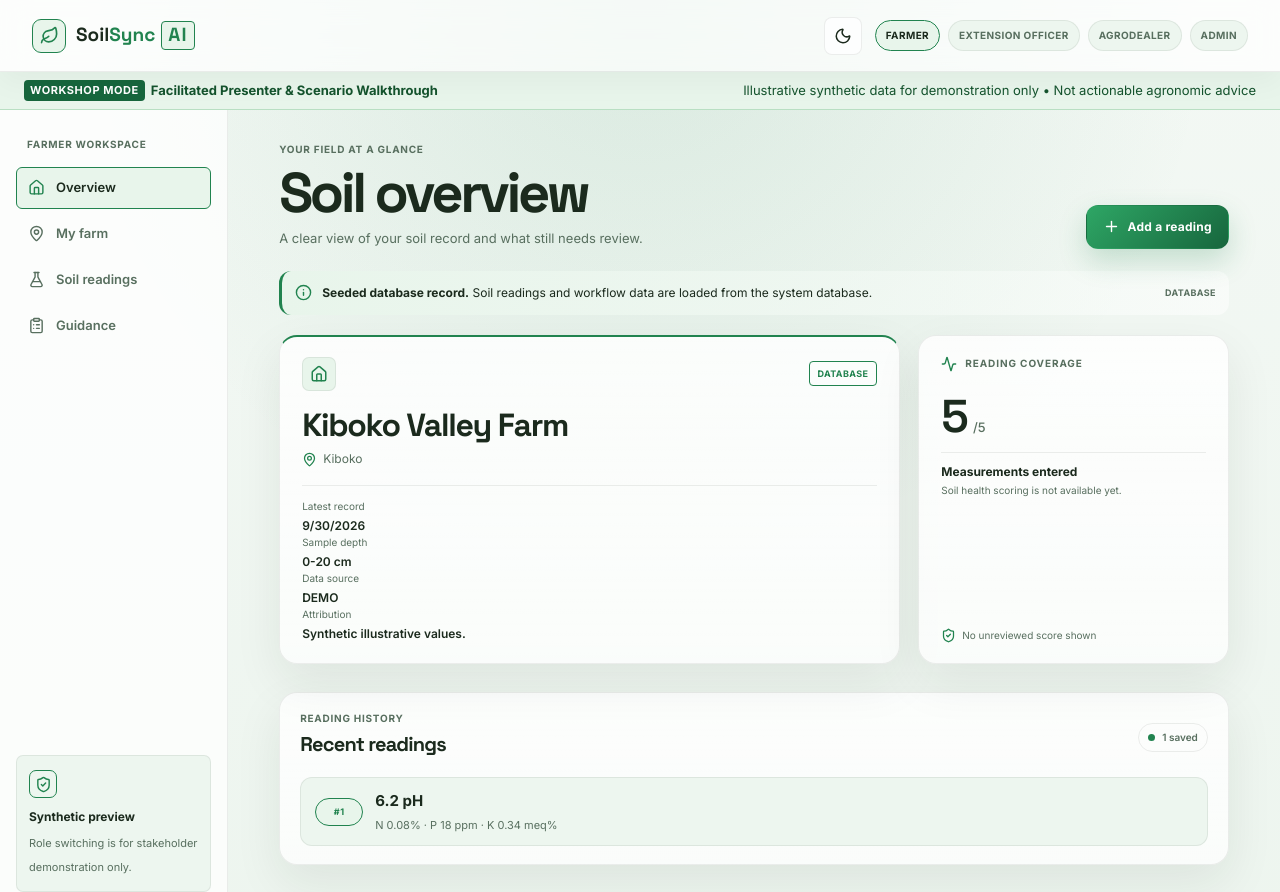
farmer overview prototype › allows an incomplete local reading preview without saving it
Click the button "Add a reading" at (1157, 227), box [1086,205,1229,249]
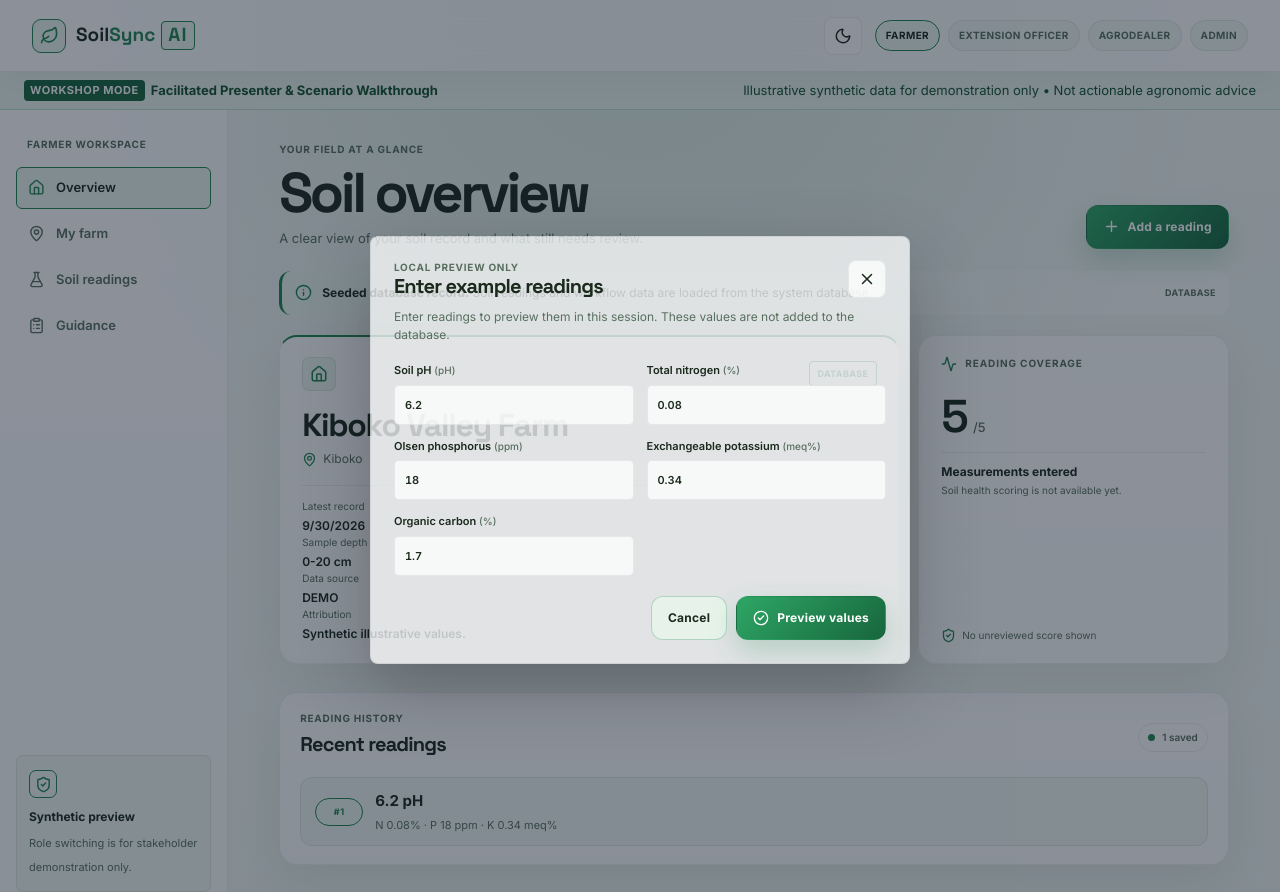
Clear the number field labelled "Soil pH (pH)" at (514, 405), box [394,385,634,425]
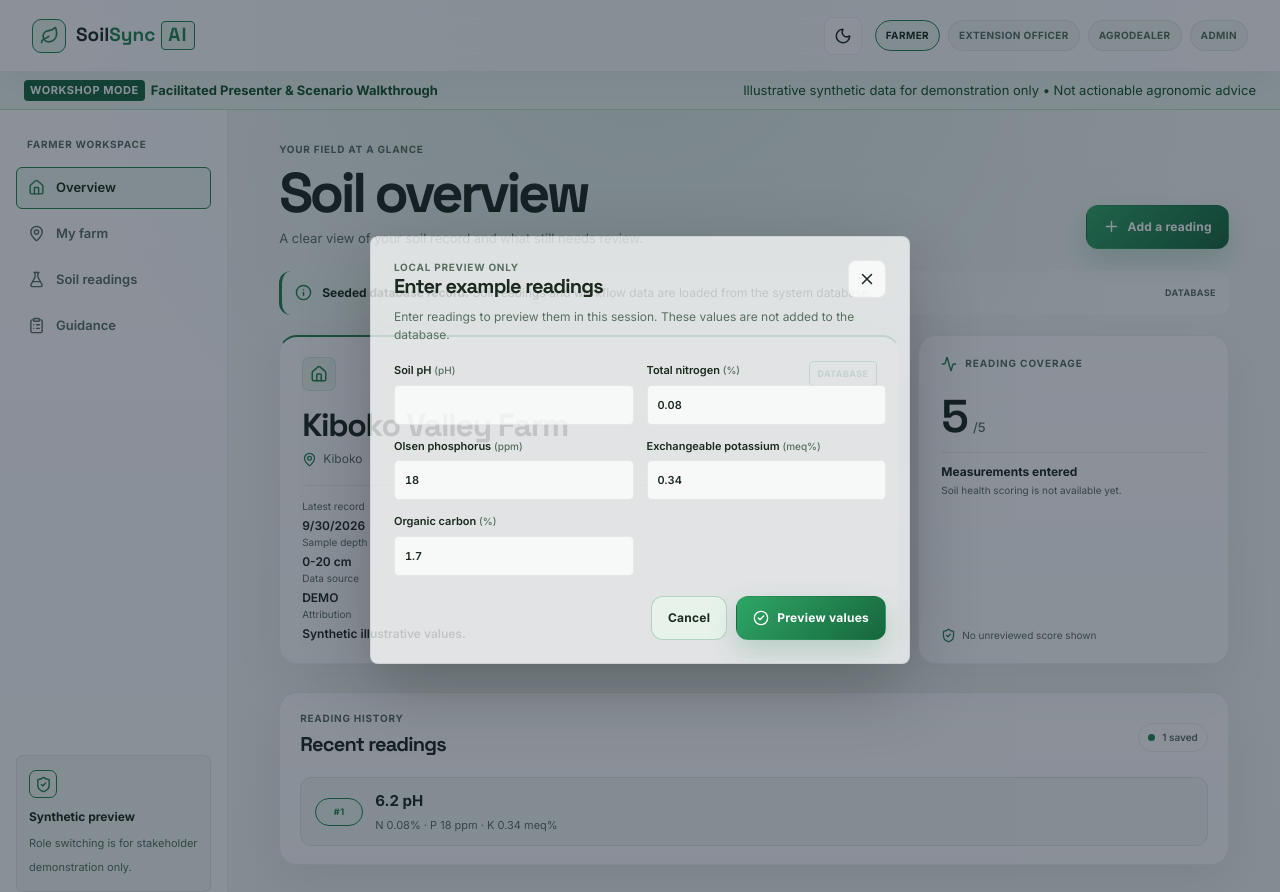
Click the button "Preview values" at (811, 618), box [736,596,886,640]
(page scrolled)
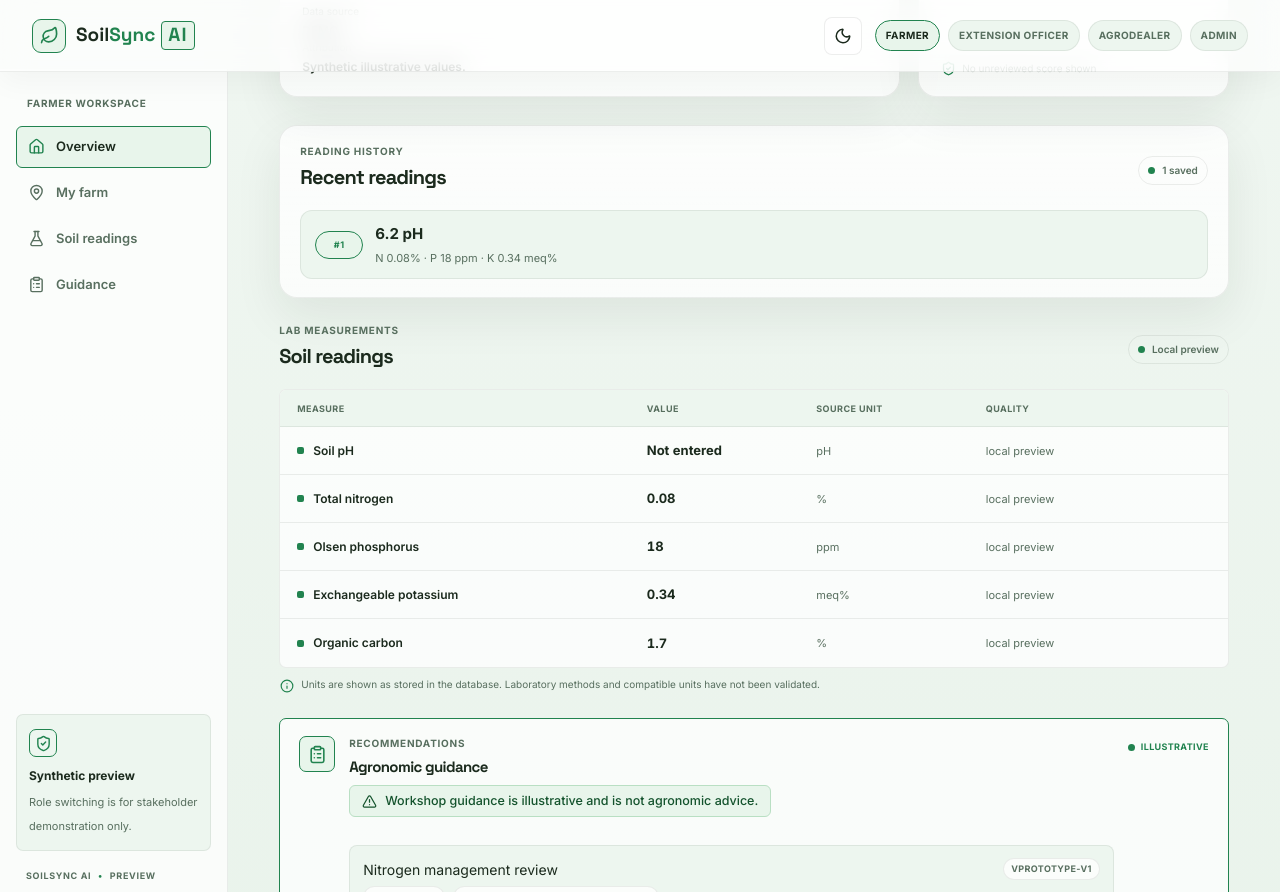
Expected: the text "Not entered" is shown, [647,442,722,458]
